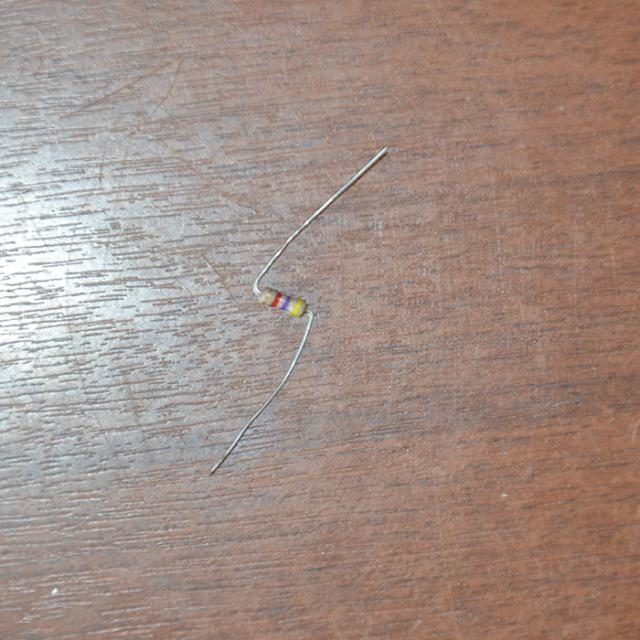gold: (262, 287, 272, 303)
red: (271, 293, 281, 306)
resistor: (245, 269, 325, 329)
violet: (279, 297, 290, 310)
yellow: (290, 299, 302, 316)
